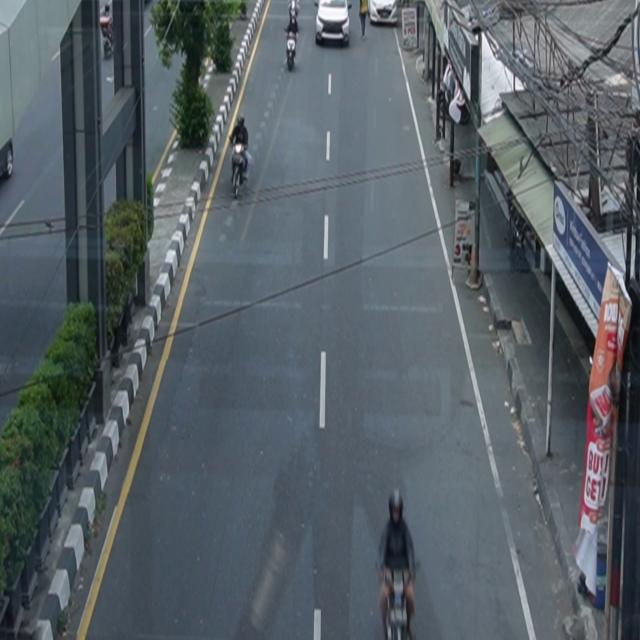car: (316, 1, 352, 47), (367, 1, 398, 26)
